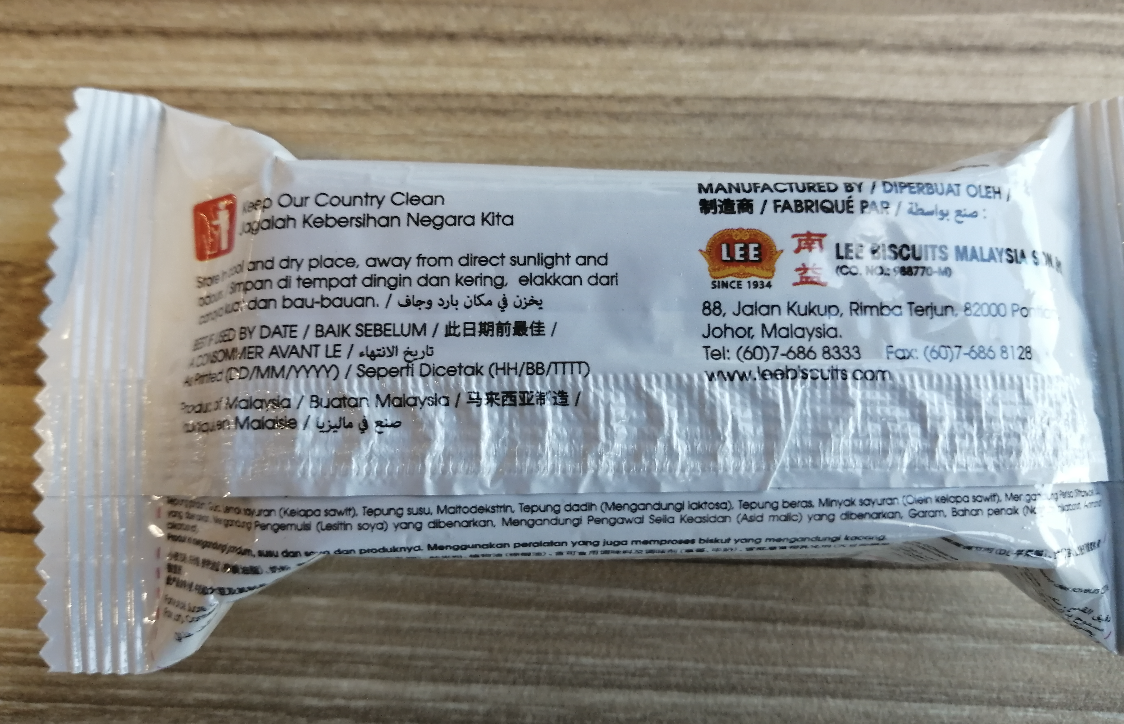Wafers: (119, 181, 1097, 534)
